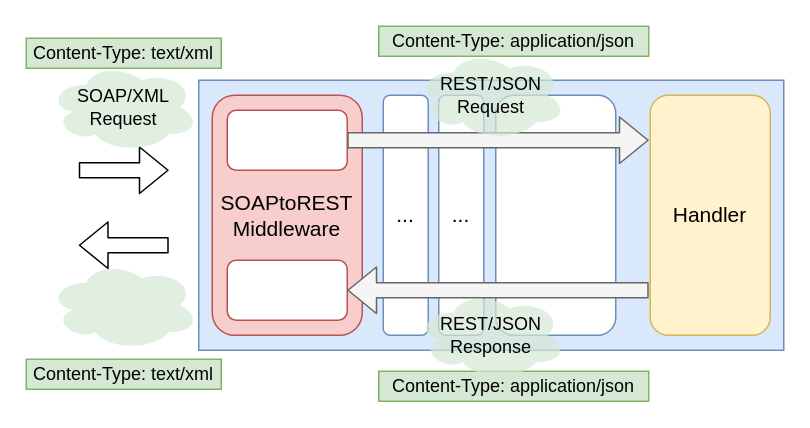
This 810x428 diagram has some shape labels left out. The shapes that lost their labels are listed below. From the top down, each one's box as (x1, y1, x2, y2) in pixels, then its label:
(226, 109, 347, 170): SOAPtoREST Conversion
(494, 94, 616, 335): middleware
(48, 260, 198, 350): SOAP/XML Response
(226, 259, 347, 320): RESTtoSOAP Conversion
